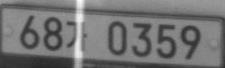0: (106, 20, 127, 56)
3: (131, 21, 152, 57)
5: (156, 23, 177, 59)
6: (19, 14, 40, 49)
8: (41, 15, 64, 51)
9: (179, 24, 201, 59)
가: (65, 20, 88, 52)
